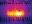Hotspot: (7, 9, 25, 17)
